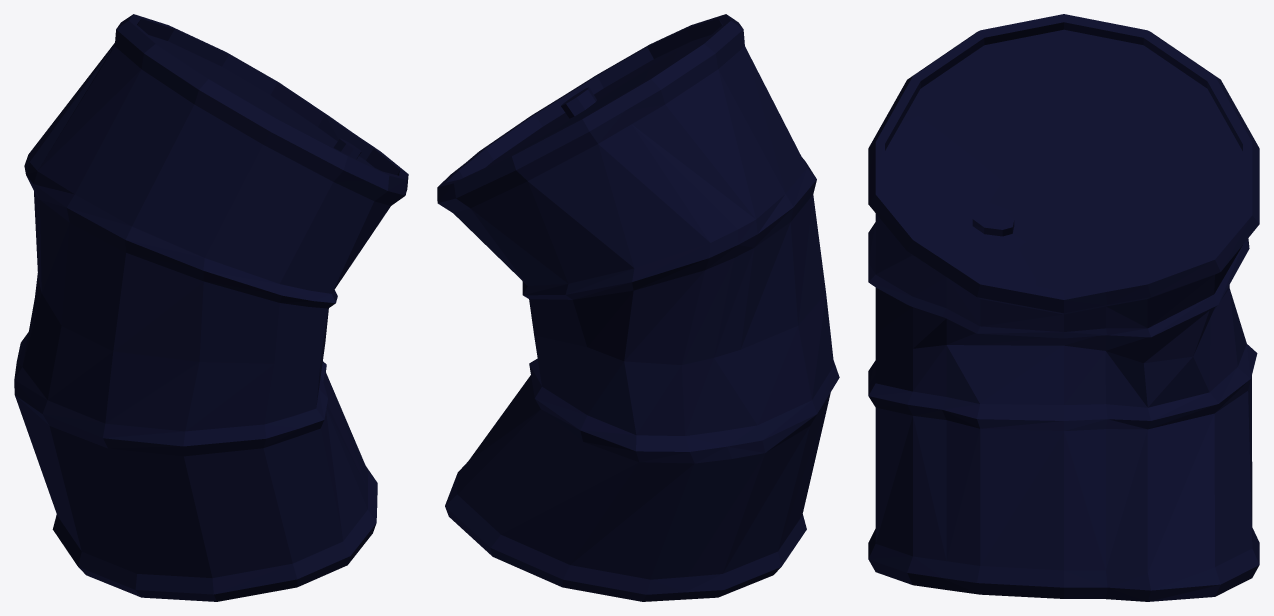
Rendered from oilbarrelcrushed.fbx.
The picture shows the model from 3 angles, left to right: view 1: azimuth 30°, elevation 25°; view 2: azimuth 150°, elevation 25°; view 3: azimuth 270°, elevation 25°; orthographic projection. The views are drawn at different scales.
Visible parts, largest first — view 1: oilbarrel002; view 2: oilbarrel002; view 3: oilbarrel002.
Part boxes in pixels (left/top/right/bottom): oilbarrel002: left=14, top=14, right=408, bottom=601; oilbarrel002: left=437, top=14, right=839, bottom=601; oilbarrel002: left=868, top=14, right=1259, bottom=601.
Bounding box in the file's own units: 63.73 × 92.68 × 60.76.
